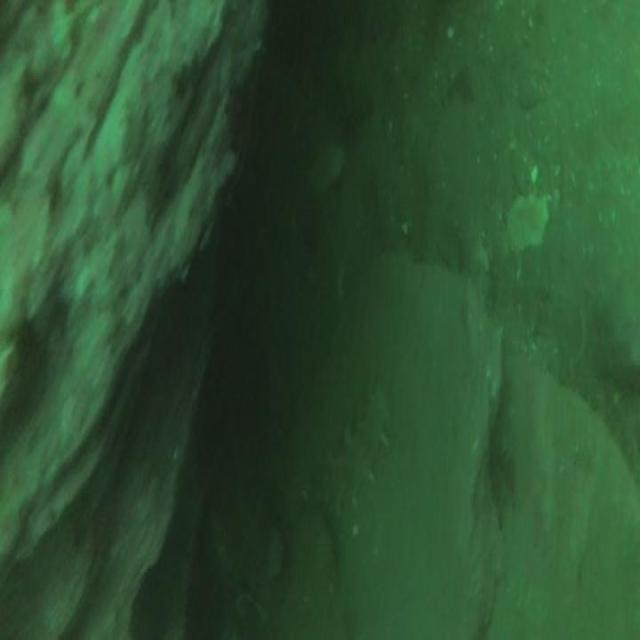holothurian: (287, 378, 391, 516)
